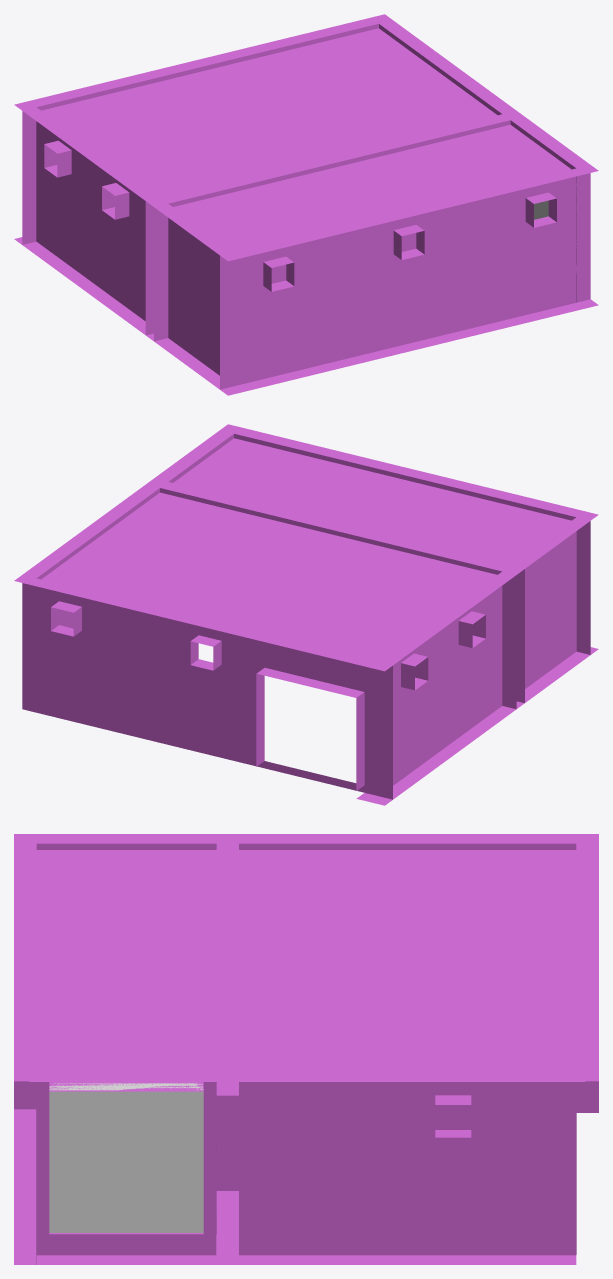
File: paredesyventanasxdxdxd.fbx
The picture shows the model from 3 angles, top to bottom: view 1: azimuth 30°, elevation 25°; view 2: azimuth 150°, elevation 25°; view 3: azimuth 270°, elevation 25°; orthographic projection. The views are drawn at different scales.
Visible parts, largest first — view 1: ParedesInternas; view 2: ParedesInternas; view 3: ParedesInternas, Ventanas.
Boxes of the visible parts, x1,y1,x2,y2 form: ParedesInternas: [14, 14, 598, 395]; ParedesInternas: [14, 424, 598, 805]; ParedesInternas: [14, 834, 598, 1264]; Ventanas: [49, 1083, 203, 1232].
Size of the model in its own units: 2600 by 900 by 2600.
